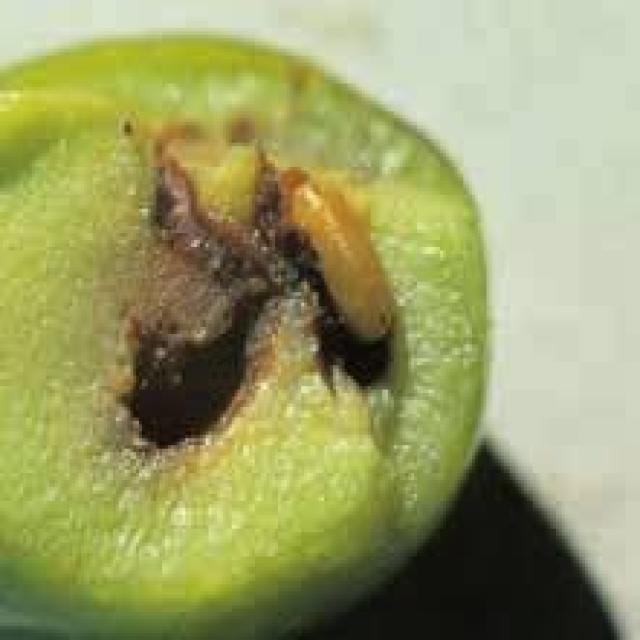Olive Fruit Fly: (0, 38, 487, 637)
